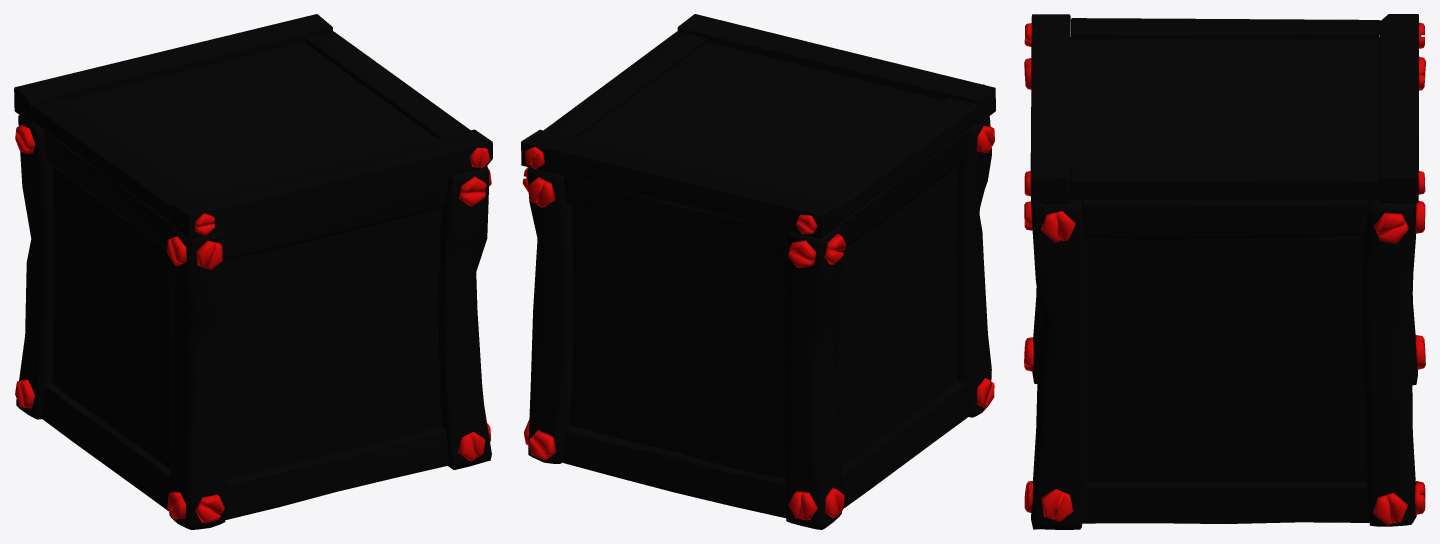
Rendered from Crate.fbx.
The picture shows the model from 3 angles, left to right: view 1: azimuth 30°, elevation 25°; view 2: azimuth 150°, elevation 25°; view 3: azimuth 270°, elevation 25°; orthographic projection. The views are drawn at different scales.
Parts seen in each view (by area): view 1: Crate_Box, Crate_Lid; view 2: Crate_Box, Crate_Lid; view 3: Crate_Box, Crate_Lid.
Boxes of the visible parts, x1,y1,x2,y2 form: Crate_Box: (15,115,491,529); Crate_Lid: (14,14,492,239); Crate_Box: (522,116,994,529); Crate_Lid: (521,14,995,238); Crate_Box: (1024,56,1425,529); Crate_Lid: (1024,14,1425,203).
Size of the model in its own units: 103 by 99.45 by 102.
